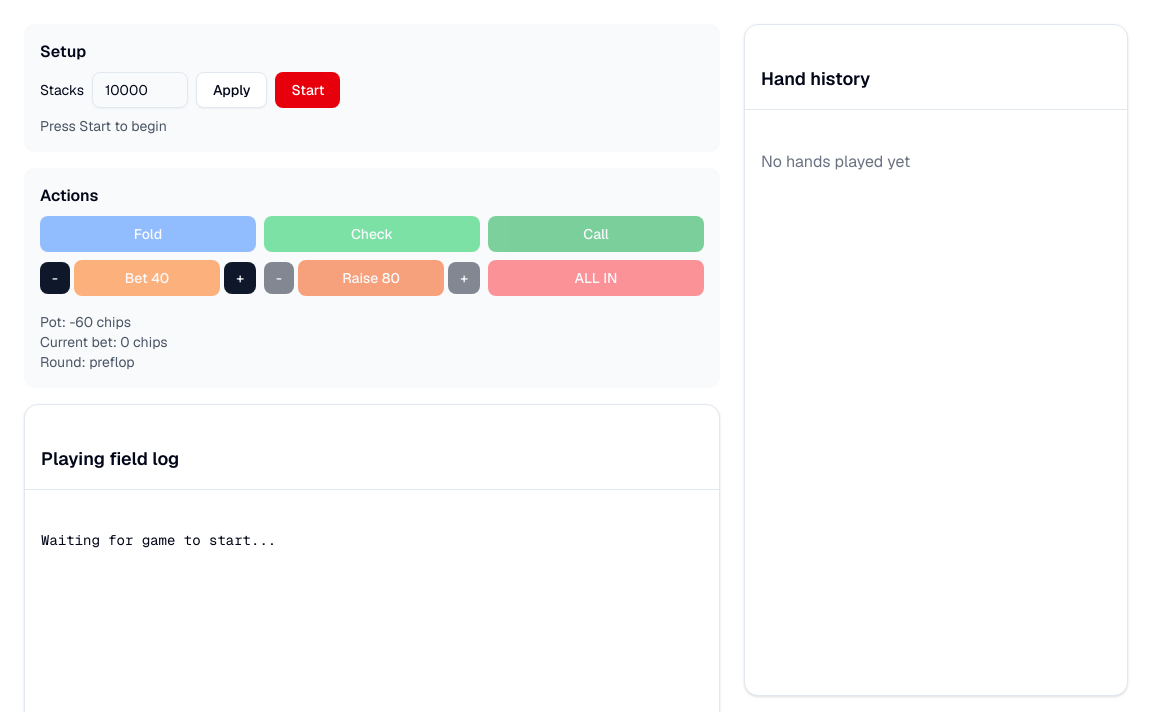
Test: PokerGame Integration Test › should deal cards when Start is clicked
Expected: the button "Fold" is disabled, x1=40 y1=216 x2=256 y2=252
Click the button "Start". click: click(308, 90)
box: x1=276 y1=72 x2=340 y2=108
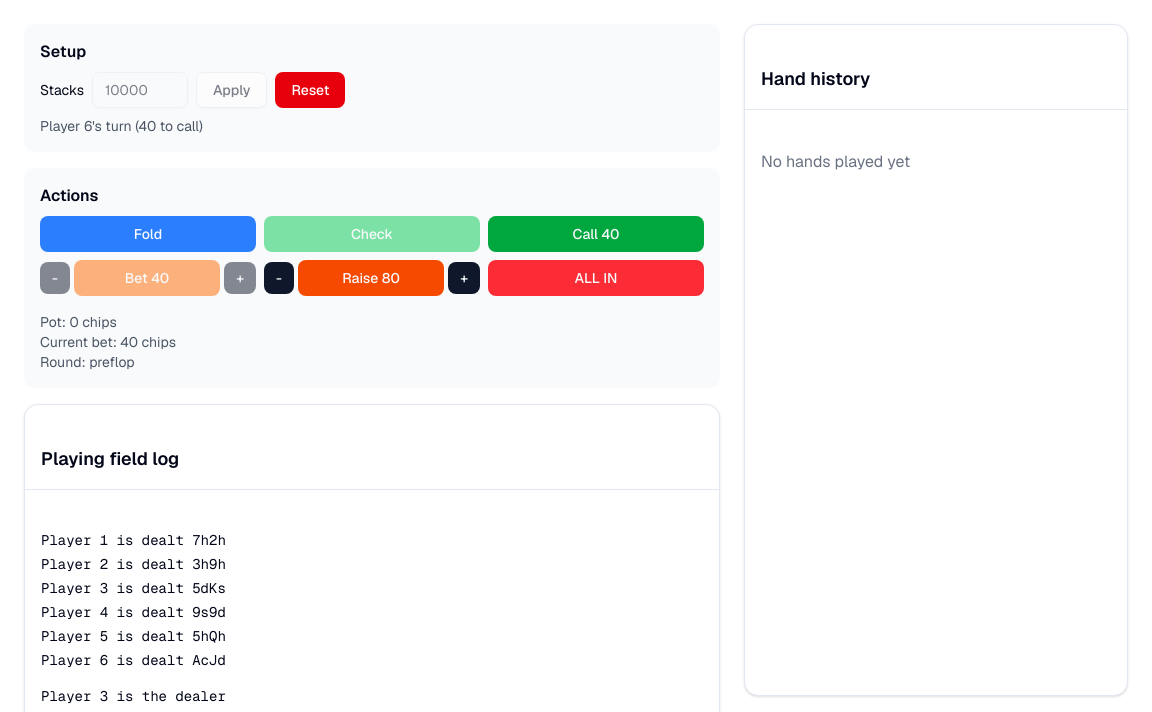
Result: the button "Fold" is enabled at x1=40 y1=216 x2=256 y2=252
